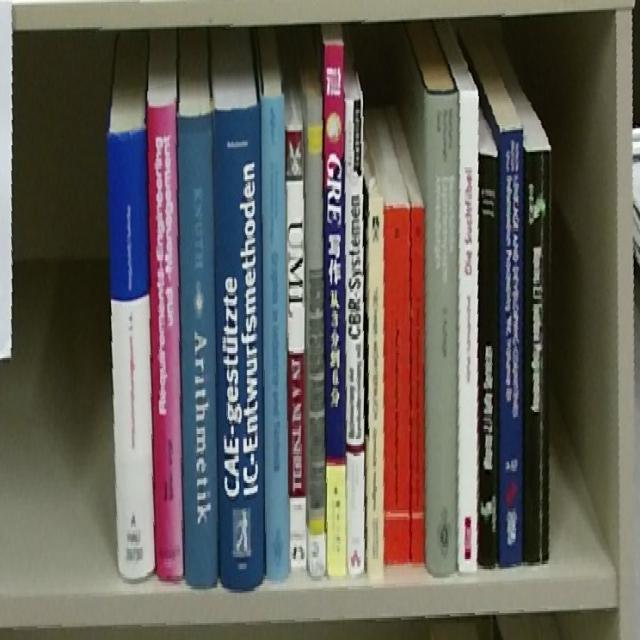Book Spine: (213, 103, 264, 591), (107, 127, 156, 579), (178, 110, 218, 586), (147, 104, 183, 580), (426, 90, 458, 574), (261, 96, 289, 579), (324, 45, 346, 576), (498, 129, 524, 566), (525, 152, 551, 565), (457, 90, 478, 573), (286, 127, 307, 571), (345, 98, 364, 574), (385, 207, 410, 563), (307, 98, 325, 577), (478, 152, 498, 568), (367, 196, 383, 574), (411, 207, 425, 564)
